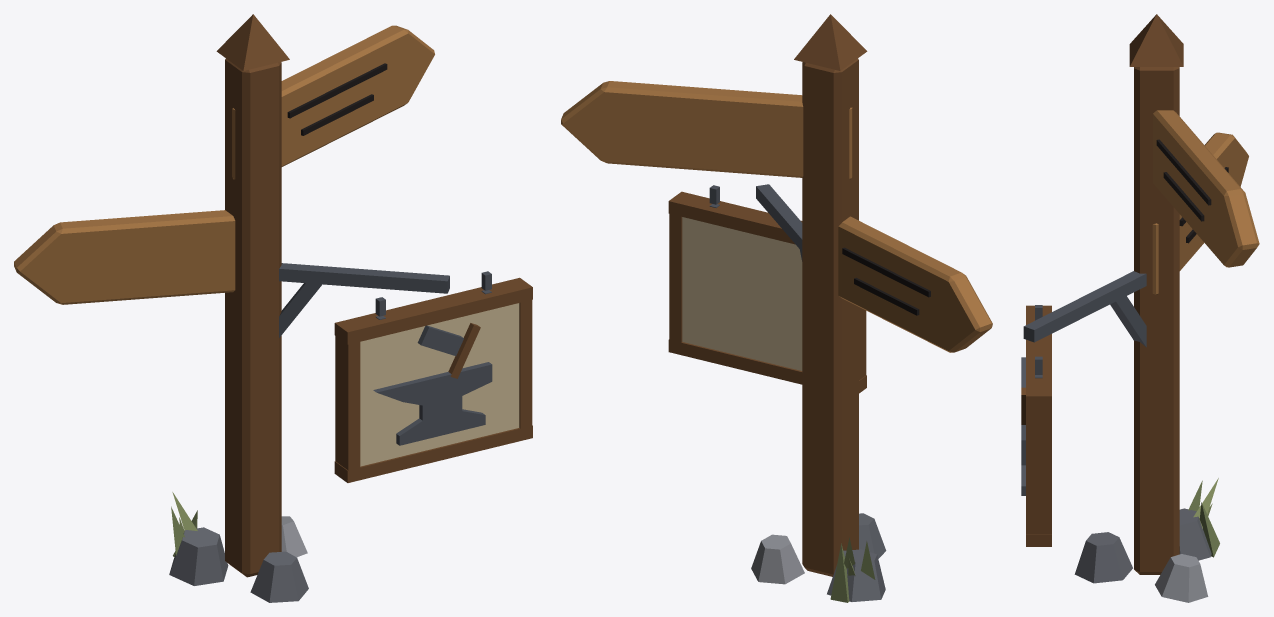
File: Signpost Smithy.fbx
3 views of the same model, side by side, from view 1: azimuth 30°, elevation 25°; view 2: azimuth 150°, elevation 25°; view 3: azimuth 270°, elevation 25° (orthographic).
Parts seen in each view (by area): view 1: Signpost, SmithyPlate, PlateAnvil, PlateRimT, PlateRimL, SmithyArm, PlateRimB, PlateRimR, PlateHammerHead, SmithyStrut; view 2: Signpost, SmithyPlate, PlateRimT, PlateRimB, PlateRimR, SmithyArm; view 3: Signpost, PlateRimR, SmithyArm, PlateRimT, SmithyStrut, PlateAnvil, PlateRimB.
Part boxes in pixels (<box>): Signpost: <box>14,14,434,602</box>; SmithyPlate: <box>360,303,519,466</box>; PlateAnvil: <box>373,362,492,445</box>; PlateRimT: <box>334,277,532,344</box>; PlateRimL: <box>335,336,360,476</box>; SmithyArm: <box>279,263,449,293</box>; PlateRimB: <box>334,425,532,482</box>; PlateRimR: <box>519,295,532,434</box>; PlateHammerHead: <box>417,325,463,355</box>; SmithyStrut: <box>279,278,322,337</box>; Signpost: <box>561,14,992,602</box>; SmithyPlate: <box>682,217,802,370</box>; PlateRimT: <box>668,191,802,244</box>; PlateRimB: <box>668,339,866,393</box>; PlateRimR: <box>669,208,682,348</box>; SmithyArm: <box>756,184,802,251</box>; Signpost: <box>1074,14,1259,602</box>; PlateRimR: <box>1026,408,1051,534</box>; SmithyArm: <box>1023,271,1146,342</box>; PlateRimT: <box>1026,305,1051,408</box>; SmithyStrut: <box>1110,296,1146,347</box>; PlateAnvil: <box>1021,425,1025,495</box>; PlateRimB: <box>1026,534,1051,546</box>.
Bounding box in the file's own units: 0.6389 × 0.8093 × 0.312.
